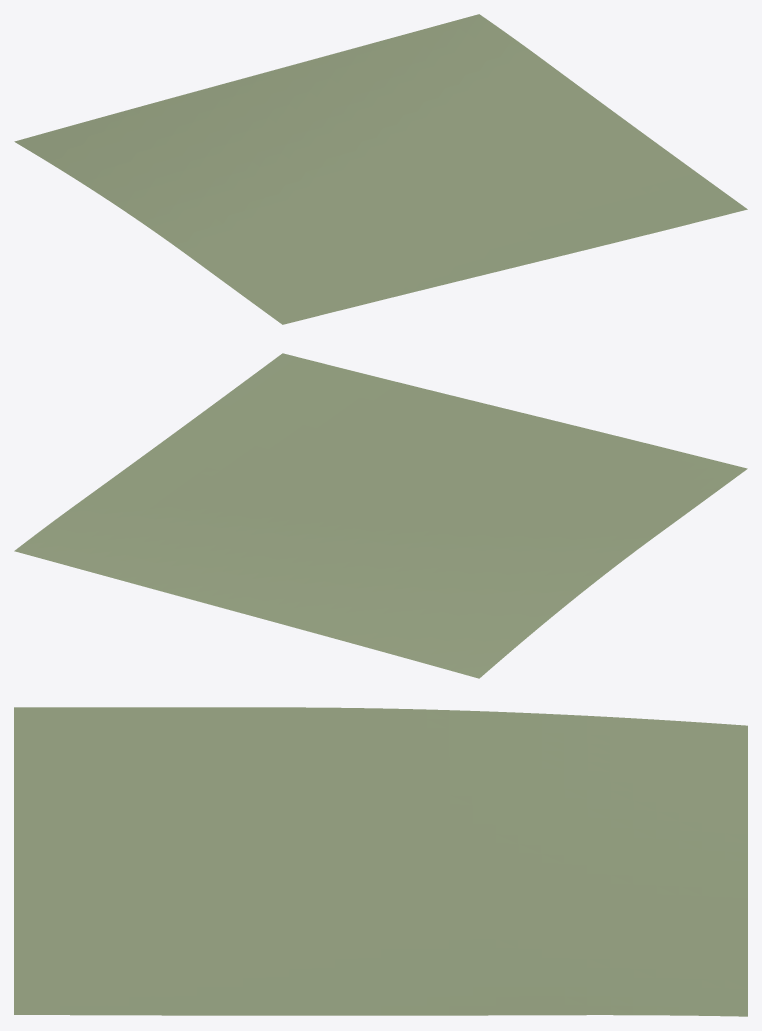
The model's file is desert-9-27.glb.
The picture shows the model from 3 angles, top to bottom: view 1: azimuth 30°, elevation 25°; view 2: azimuth 150°, elevation 25°; view 3: azimuth 270°, elevation 25°; orthographic projection. The views are drawn at different scales.
Parts seen in each view (by area): view 1: desert-9-27; view 2: desert-9-27; view 3: desert-9-27.
Boxes of the visible parts, bbox=[...] form: desert-9-27: bbox=[14, 14, 747, 324]; desert-9-27: bbox=[14, 353, 747, 678]; desert-9-27: bbox=[14, 707, 747, 1016].
Bounding box in the file's own units: 512 × 16.11 × 512.
